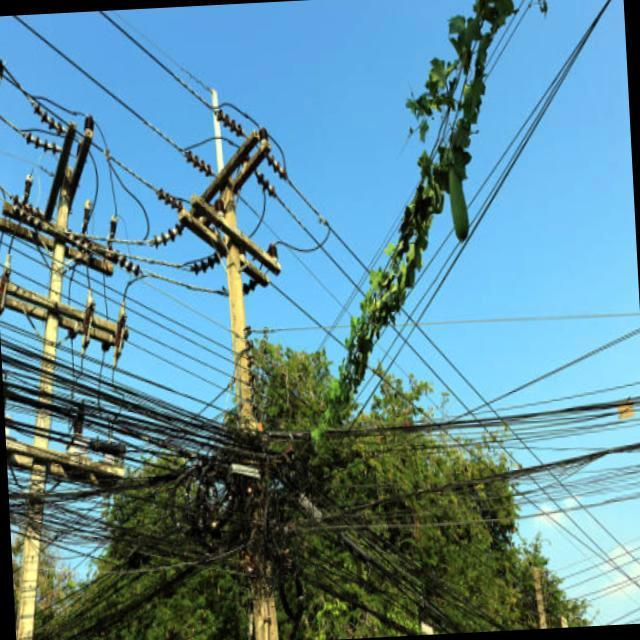light_pole: (187, 91, 314, 638), (200, 337, 348, 551)
